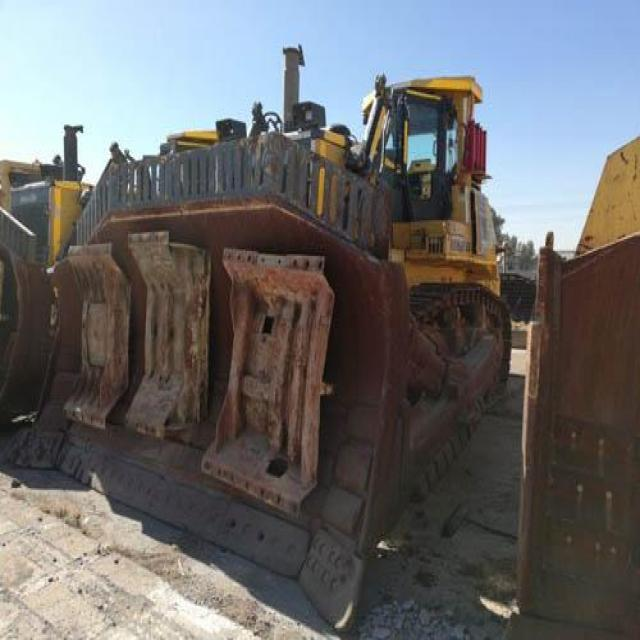Bulldozer: (75, 46, 538, 616)
